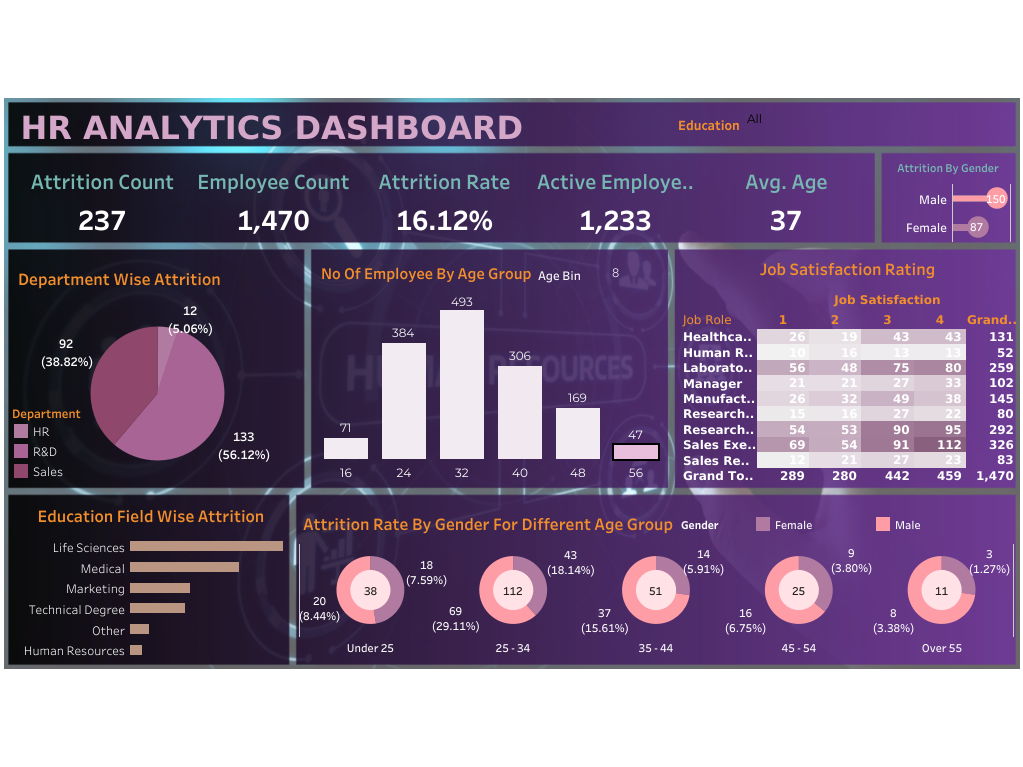

What the dashboard file says about the page in this screenshot:
{"tool":"tableau","page":{"name":"HR Analytics Dashboard ","canvas":[1000,1000],"units":"permille","ordinal":0},"visuals":[{"type":"image","param":"Image/HR background.pptx (1).png","box":[0,0,1000,1000]},{"type":"text","box":[58,10.3,879.6,78.8]},{"type":"filter","title":"No Of Employee By Age Group","param":"[federated.1dt8n481k16oje0zqzx9h0xl165m].[none:Education:nk]","box":[627.7,25.7,138.5,222.6]},{"type":"worksheet","title":"Attrition By Gender","mark":"Automatic","rows":["Gender"],"cols":["Calculation_1106668092919808","Calculation_1106668092919808"],"box":[822.5,101,116,149]},{"type":"worksheet","title":"KPI","mark":"Automatic","box":[62.3,102.7,748.9,147.3]},{"type":"worksheet","title":"Department Wise Attrition","mark":"Pie","box":[59.7,263.7,258,417.8]},{"type":"parameter","param":"[Parameters].[Parameter 1]","box":[518.6,268.8,114.3,56.5]},{"type":"worksheet","title":"Job Satisfaction Rating","mark":"Square","rows":["Job Role"],"cols":["Job Satisfaction"],"box":[643.3,270.6,296.1,407.5]},{"type":"worksheet","title":"No Of Employee By Age Group","mark":"Automatic","rows":["Employee Count"],"cols":["Age (bin)"],"box":[329,272.3,304.8,399]},{"type":"dashboard-object","box":[763.6,272.3,20.8,41.1]},{"type":"legend","title":"Department Wise Attrition","param":"[federated.1dt8n481k16oje0zqzx9h0xl165m].[none:Department:nk]","box":[61.5,541.1,60.6,133.6]},{"type":"worksheet","title":"Education Field Wise Attrition","mark":"Bar","rows":["Education Field"],"cols":["Calculation_1106668092919808"],"box":[59.7,688.4,245.9,296.2]},{"type":"worksheet","title":"Attrition Rate By Gender For Different Age Group","mark":"Pie","rows":["Calculation_0042891320991750","Calculation_0042891321045000"],"cols":["CF_age band"],"box":[313.4,696.9,626,284.2]},{"type":"legend","title":"Attrition Rate By Gender For Different Age Group","param":"[federated.1dt8n481k16oje0zqzx9h0xl165m].[none:Gender:nk]","box":[649.4,698.6,282.2,56.5]}]}

Visuals, with their boxes on the dashboard's canvas, which has no fixed pixel size, in thousandths of its width and height (x1, y1, x2, y2). These are canvas units, not pixel positions in the 1023x767 screenshot, which may show the page scaled, cropped or inside an application window:
image: <box>0,0,1000,1000</box>
text: <box>58,10,938,89</box>
"No Of Employee By Age Group" filter: <box>628,26,766,248</box>
"Attrition By Gender" worksheet: <box>822,101,938,250</box>
"KPI" worksheet: <box>62,103,811,250</box>
"Department Wise Attrition" worksheet (Pie marks): <box>60,264,318,682</box>
parameter: <box>519,269,633,325</box>
"Job Satisfaction Rating" worksheet (Square marks): <box>643,271,939,678</box>
"No Of Employee By Age Group" worksheet: <box>329,272,634,671</box>
dashboard-object: <box>764,272,784,313</box>
"Department Wise Attrition" legend: <box>62,541,122,675</box>
"Education Field Wise Attrition" worksheet (Bar marks): <box>60,688,306,985</box>
"Attrition Rate By Gender For Different Age Group" worksheet (Pie marks): <box>313,697,939,981</box>
"Attrition Rate By Gender For Different Age Group" legend: <box>649,699,932,755</box>
